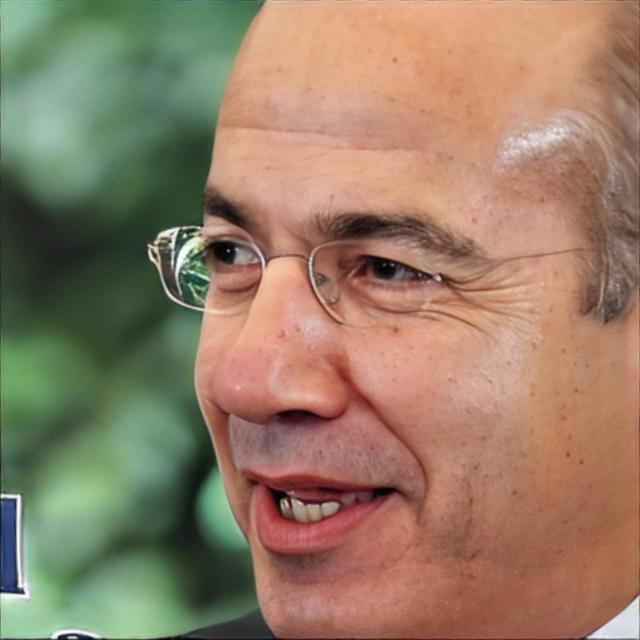happy: (184, 52, 611, 638)
